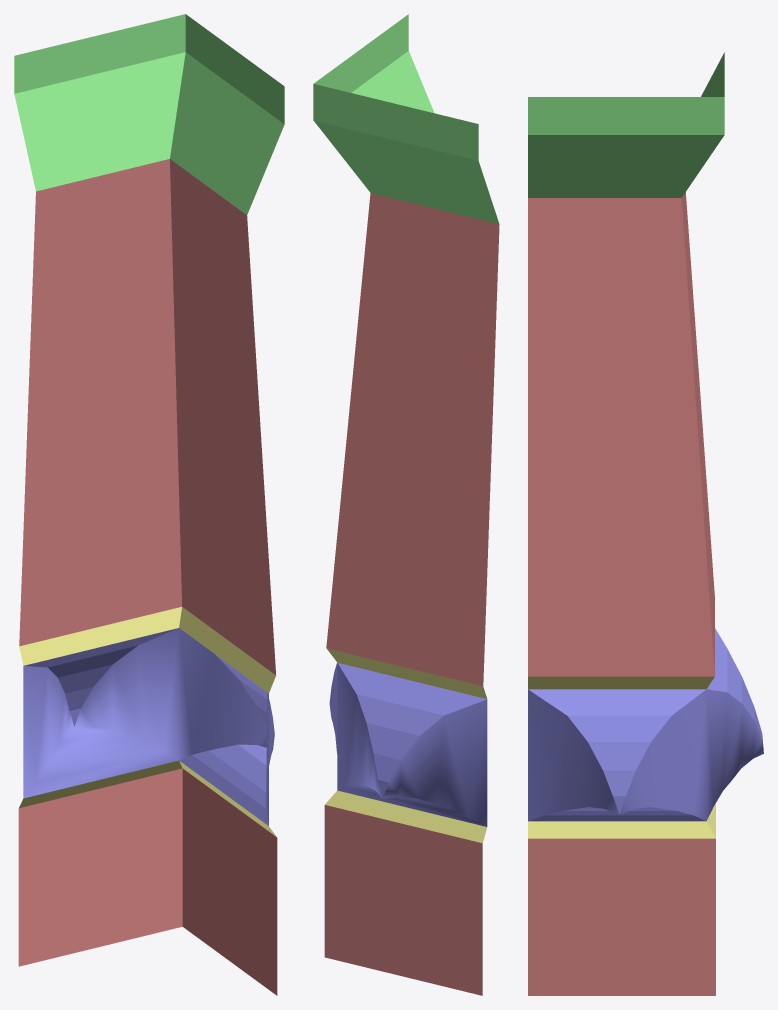
The model's file is SSQ_dungeon_S__SSQ_Room02_pillar.gltf.
The picture shows the model from 3 angles, left to right: view 1: azimuth 30°, elevation 25°; view 2: azimuth 150°, elevation 25°; view 3: azimuth 270°, elevation 25°; orthographic projection. The views are drawn at different scales.
Visible parts, largest first — view 1: SSQ_Room02_pillar; view 2: SSQ_Room02_pillar; view 3: SSQ_Room02_pillar.
Boxes of the visible parts, x1,y1,x2,y2 form: SSQ_Room02_pillar: (14, 14, 284, 995); SSQ_Room02_pillar: (313, 14, 499, 995); SSQ_Room02_pillar: (528, 52, 763, 995).
Size of the model in its own units: 0.9219 by 3.89 by 0.921.
